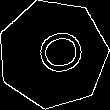O_W: (22, 26, 84, 82)
